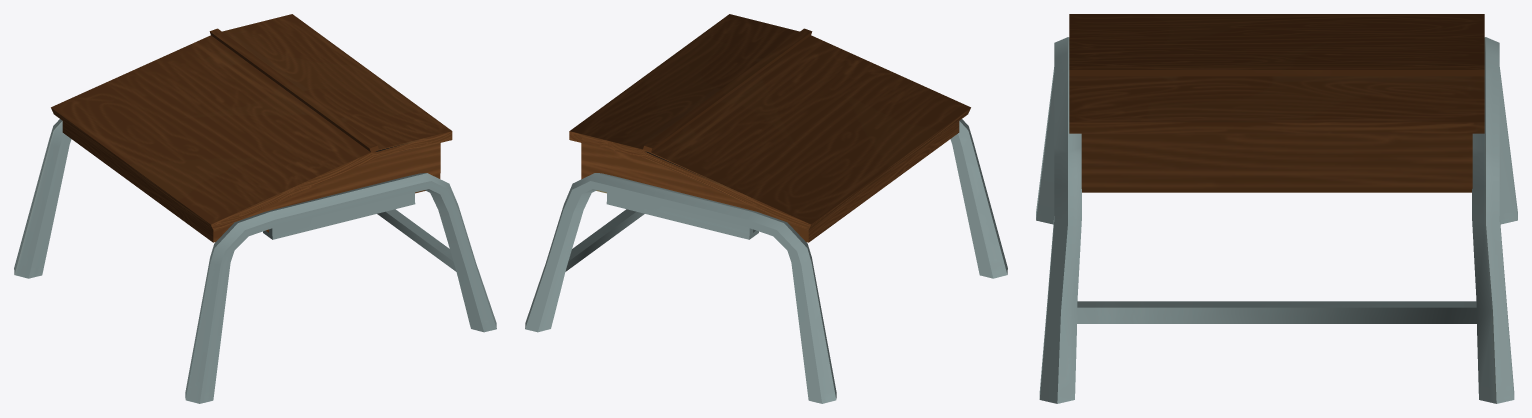
Rendered from PupitreEleve.FBX.
3 renders of one model, left to right at view 1: azimuth 30°, elevation 25°; view 2: azimuth 150°, elevation 25°; view 3: azimuth 270°, elevation 25°, orthographic. The views are drawn at different scales.
Visible parts, largest first — view 1: Box004; view 2: Box004; view 3: Box004.
Boxes of the visible parts, <box> form: Box004: <box>14,14,496,403</box>; Box004: <box>525,14,1007,403</box>; Box004: <box>1036,14,1517,403</box>.
Size of the model in its own units: 108 by 66.94 by 111.
